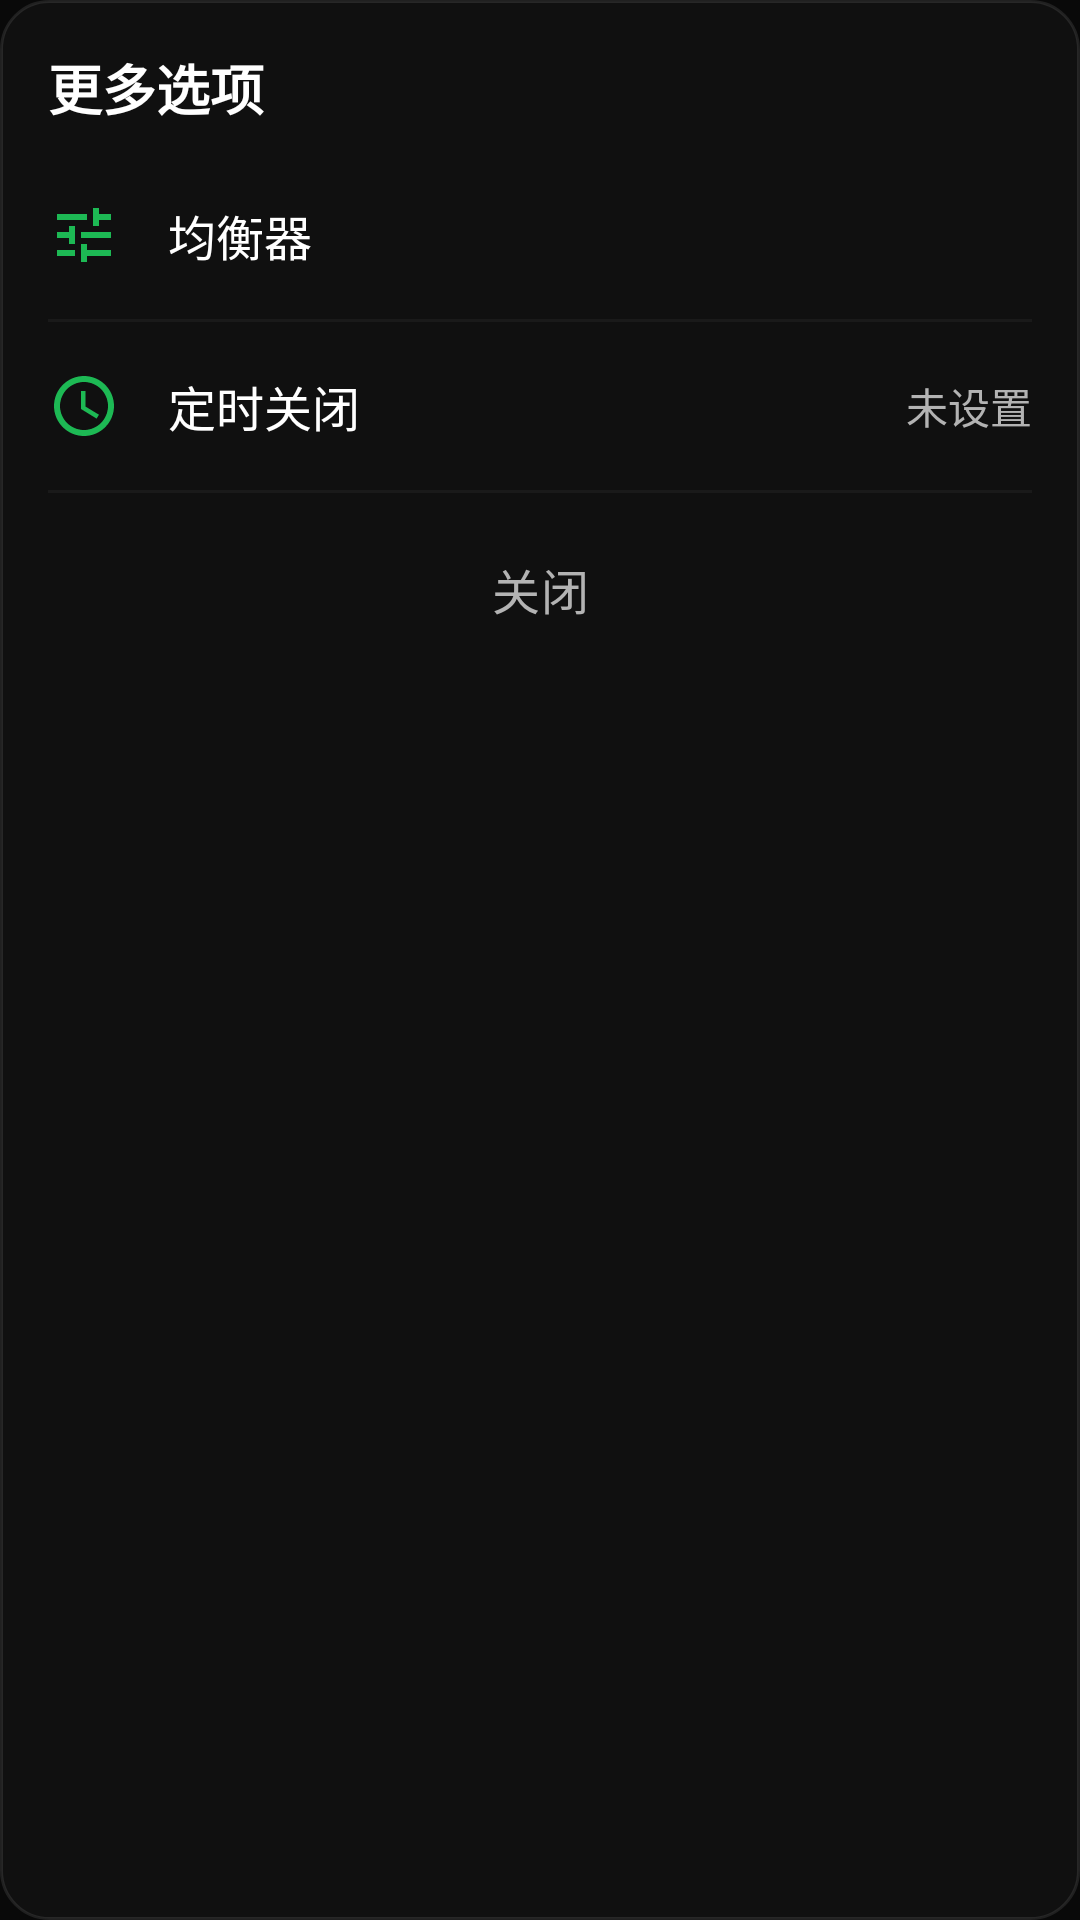

Point at icon controls on the screen. Image size 1080*1920, points as (x=x, y=y).
equalizer: (x=84, y=235)
timer: (x=84, y=406)
